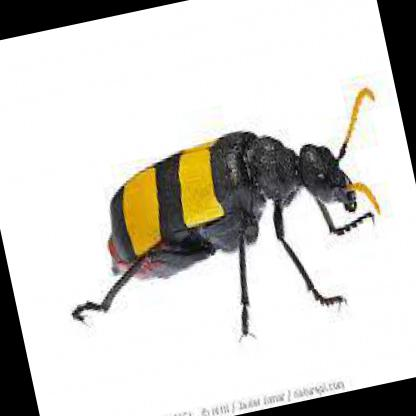blister beetle: (73, 90, 380, 336)
